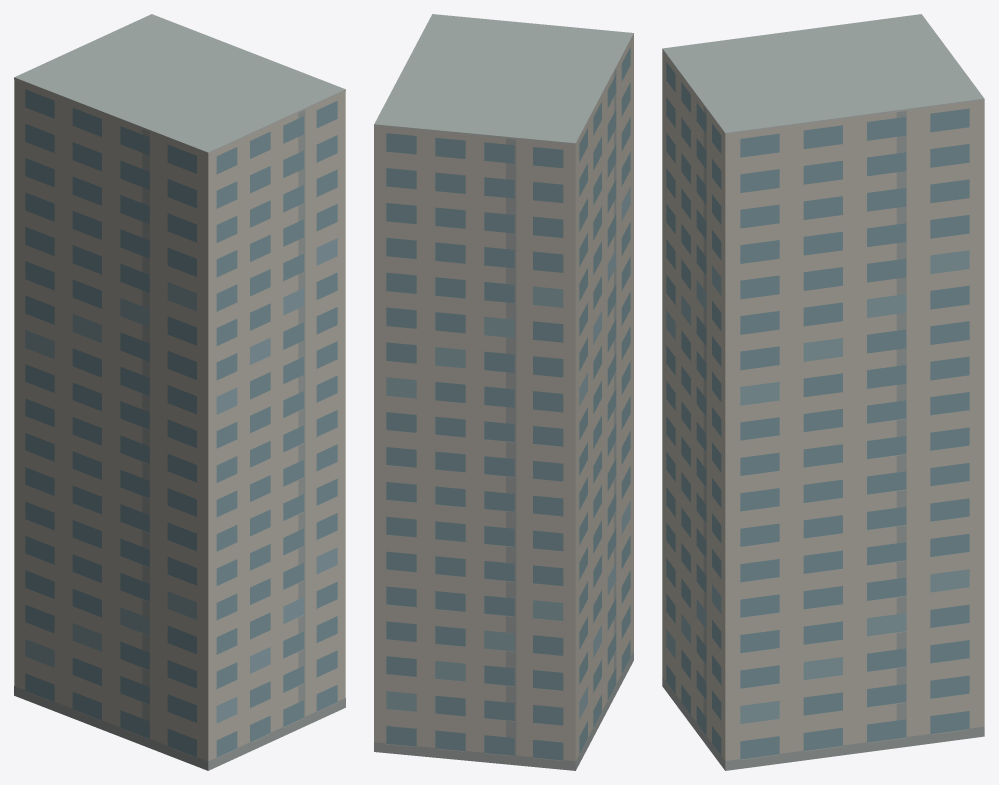
File: residential-69d923fe-d2d1-44b0-b71f-e2f781051208.glb
3 views of the same model, side by side, from view 1: azimuth 30°, elevation 25°; view 2: azimuth 150°, elevation 25°; view 3: azimuth 270°, elevation 25° (orthographic). The views are drawn at different scales.
Parts seen in each view (by area): view 1: residential-69d923fe-d2d1-44b0-b71f-e2f781051208.tmp; view 2: residential-69d923fe-d2d1-44b0-b71f-e2f781051208.tmp; view 3: residential-69d923fe-d2d1-44b0-b71f-e2f781051208.tmp.
Part boxes in pixels (<box>): residential-69d923fe-d2d1-44b0-b71f-e2f781051208.tmp: <box>14,14,345,770</box>; residential-69d923fe-d2d1-44b0-b71f-e2f781051208.tmp: <box>374,14,633,770</box>; residential-69d923fe-d2d1-44b0-b71f-e2f781051208.tmp: <box>662,14,984,770</box>.
Bounding box in the file's own units: 32.03 × 80 × 36.62.
